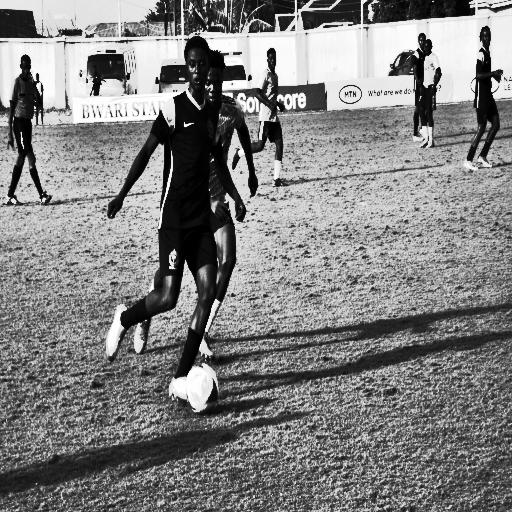ball: (186, 364, 220, 416)
referee: (5, 47, 50, 212)
team1: (198, 43, 244, 357), (257, 47, 286, 192), (421, 41, 438, 151)
team2: (105, 33, 240, 411), (469, 19, 502, 175)
